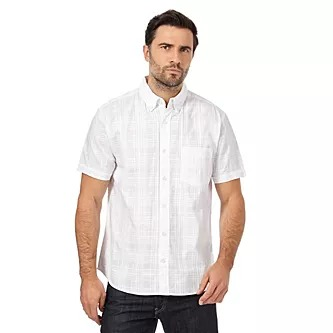S_shirt: (73, 86, 259, 294)
